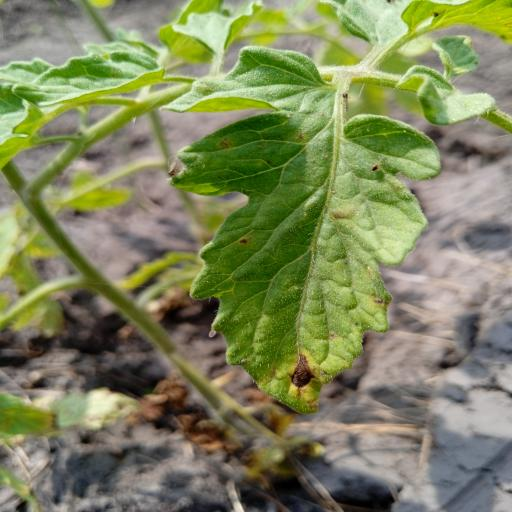Tomato_Brown_Spots: (158, 107, 443, 417)
